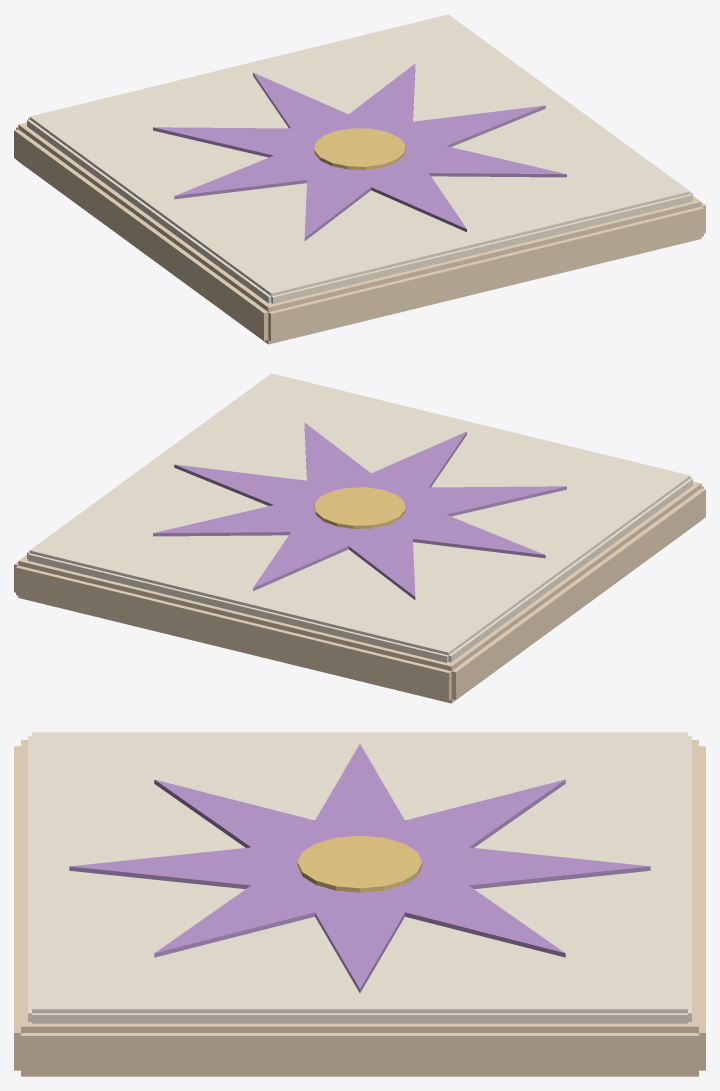
The model's file is HOB_Tile_Star.fbx.
The picture shows the model from 3 angles, top to bottom: view 1: azimuth 30°, elevation 25°; view 2: azimuth 150°, elevation 25°; view 3: azimuth 270°, elevation 25°; orthographic projection. The views are drawn at different scales.
Parts seen in each view (by area): view 1: HOB_Tile_Star; view 2: HOB_Tile_Star; view 3: HOB_Tile_Star.
Boxes of the visible parts, left/top/right/bottom form: HOB_Tile_Star: left=14, top=14, right=705, bottom=344; HOB_Tile_Star: left=14, top=373, right=705, bottom=703; HOB_Tile_Star: left=14, top=732, right=705, bottom=1076.
Size of the model in its own units: 100 by 11.4 by 100.
